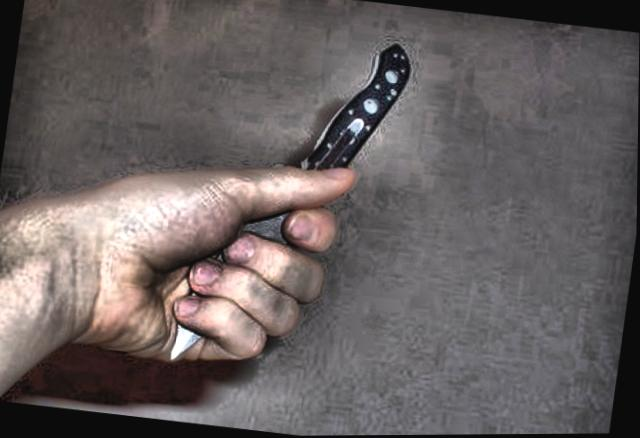knife: (147, 12, 421, 393)
